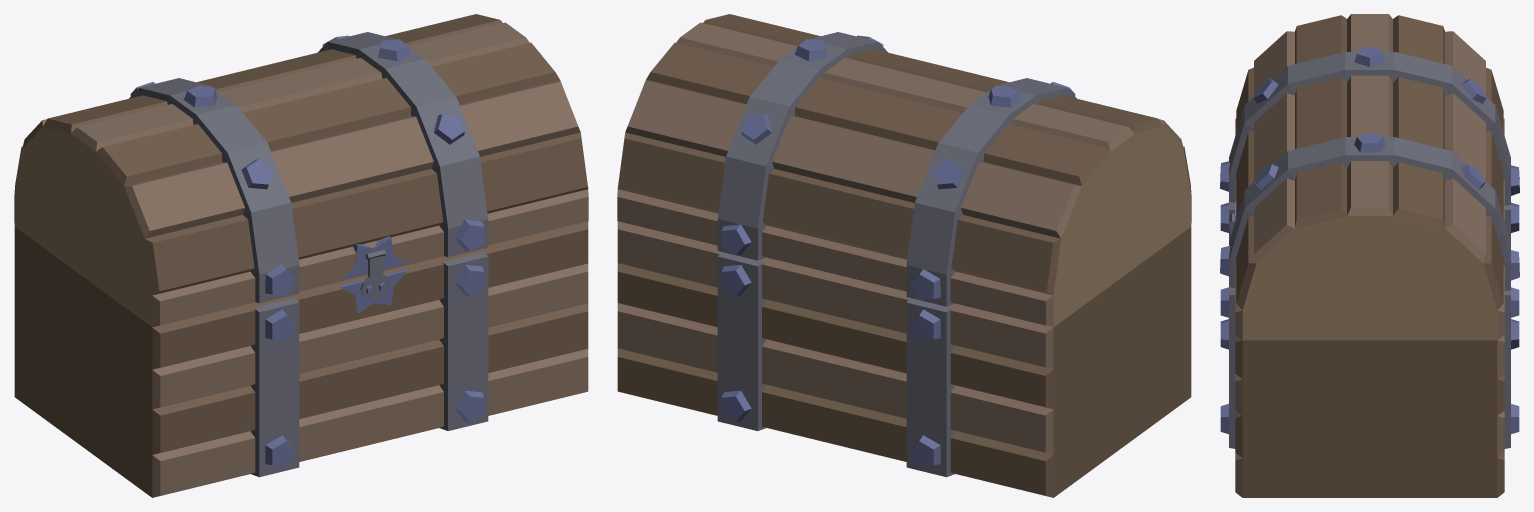
File: _trunk_15.fbx
The picture shows the model from 3 angles, left to right: view 1: azimuth 30°, elevation 25°; view 2: azimuth 150°, elevation 25°; view 3: azimuth 270°, elevation 25°; orthographic projection. The views are drawn at different scales.
Visible parts, largest first — view 1: trunk_15; view 2: trunk_15; view 3: trunk_15.
Part boxes in pixels (x1,y1,x2,y2): trunk_15: [14, 14, 588, 497]; trunk_15: [617, 14, 1191, 497]; trunk_15: [1220, 14, 1519, 497].
Bounding box in the file's own units: 107 × 76.77 × 68.97.
